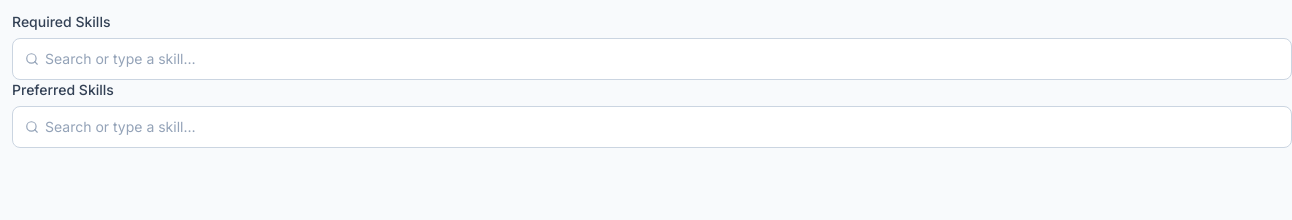
Test: SkillPicker — two pickers on one form › keeps Required and Preferred selections independent
Step 1. Type "python" into the field named "required skills" → (662, 59), box [45, 49, 1279, 69]
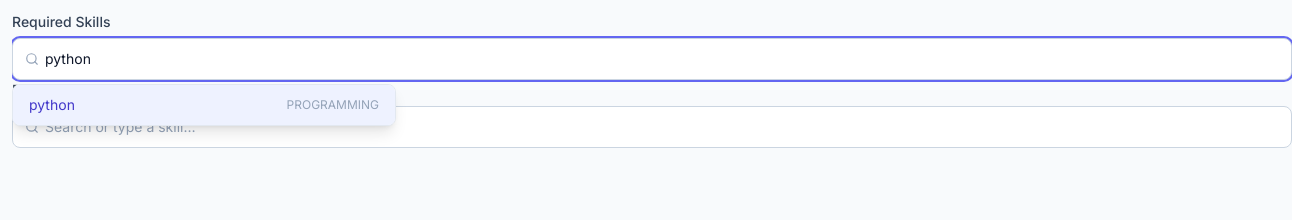
Step 2. Click the option "python PROGRAMMING" → (52, 104), box [13, 85, 395, 125]
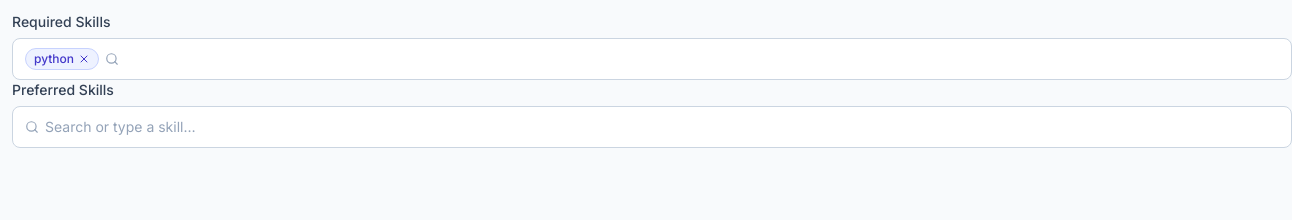
Step 3. Type "rust" into the field named "preferred skills" → (662, 127), box [45, 117, 1279, 137]
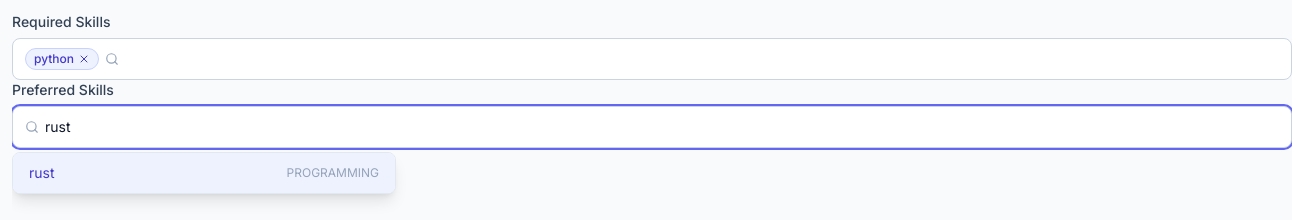
Step 4. Click the option "rust PROGRAMMING" → (333, 172), box [13, 153, 395, 193]
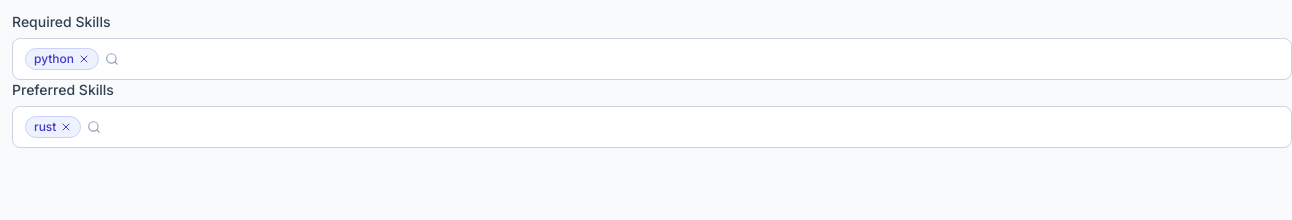
Now the button named "remove python" is shown, box [78, 53, 90, 65]
Now the button named "remove rust" is shown, box [60, 121, 72, 133]
